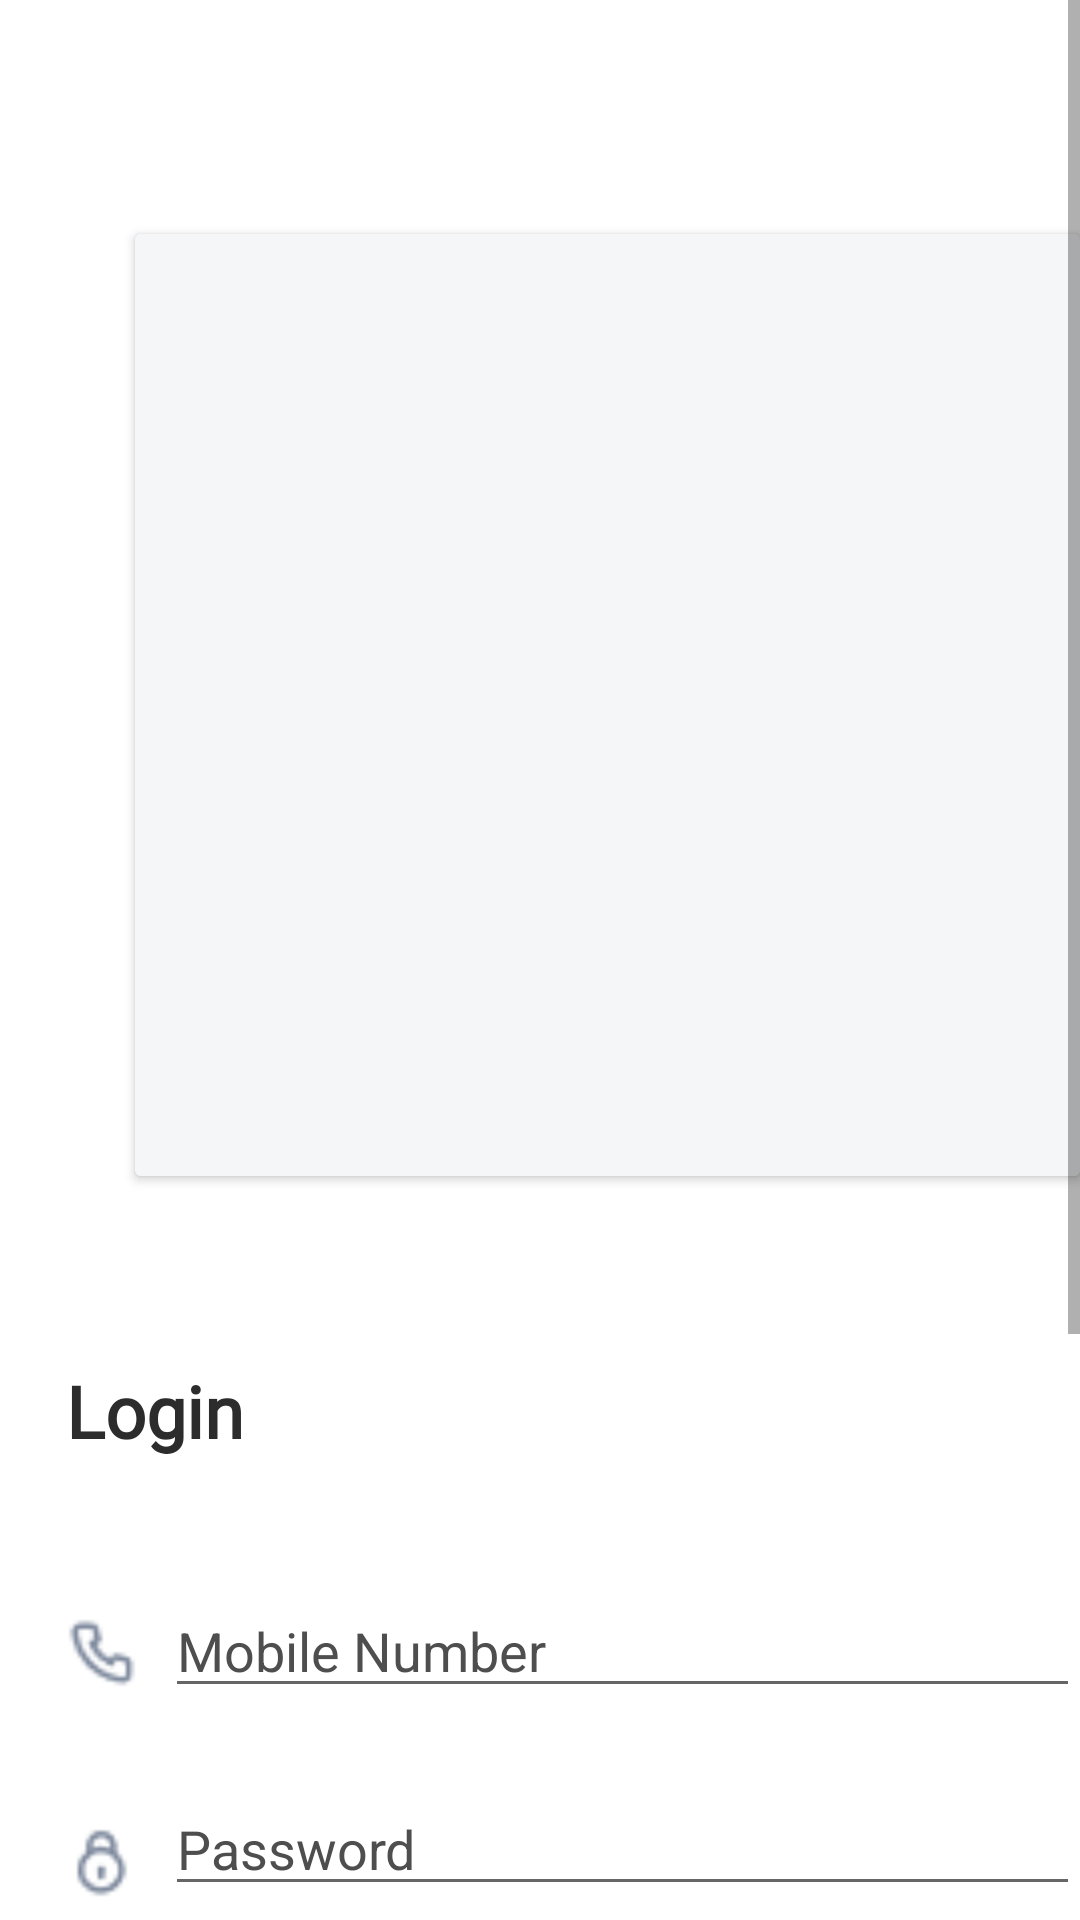

Screen size 1080w x 1920h. Icon name, then its center in pixels as point (x, y):
call: point (101, 1652)
